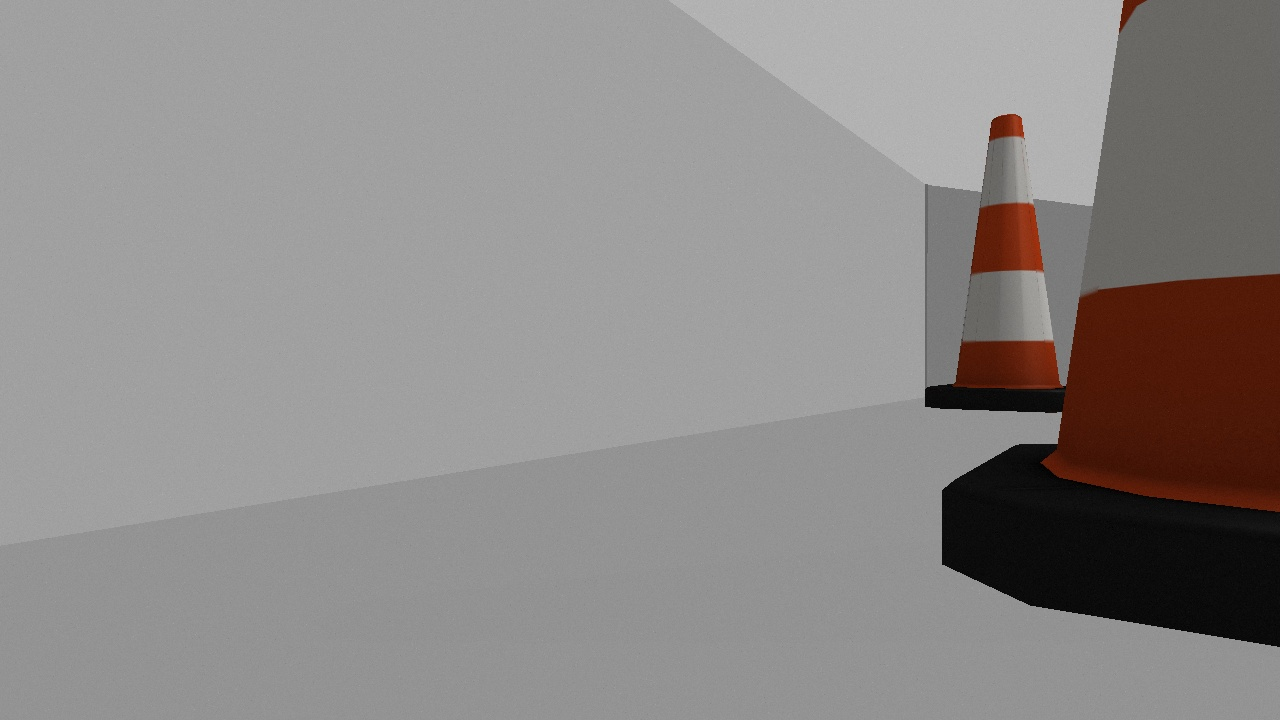barricade: (922, 111, 1090, 414)
